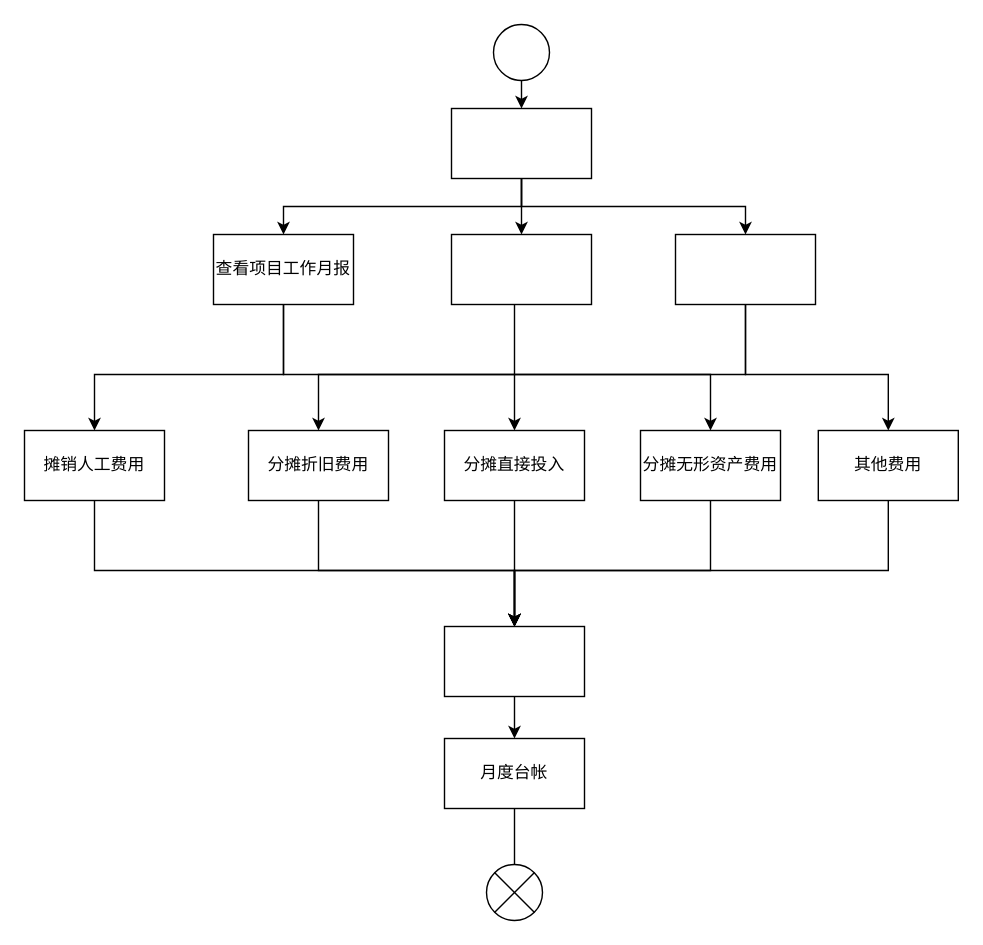
The diagram is 983 pixels wide and 945 high, and some of its shapes have lost their labels. The centre of each missing label's shape, as x and y in pixels:
"查看项目资源月报" belongs at (521,268).
"设置公司员工人数" belongs at (745,268).
"费用导入" belongs at (521,142).
"费用归集" belongs at (513,660).
